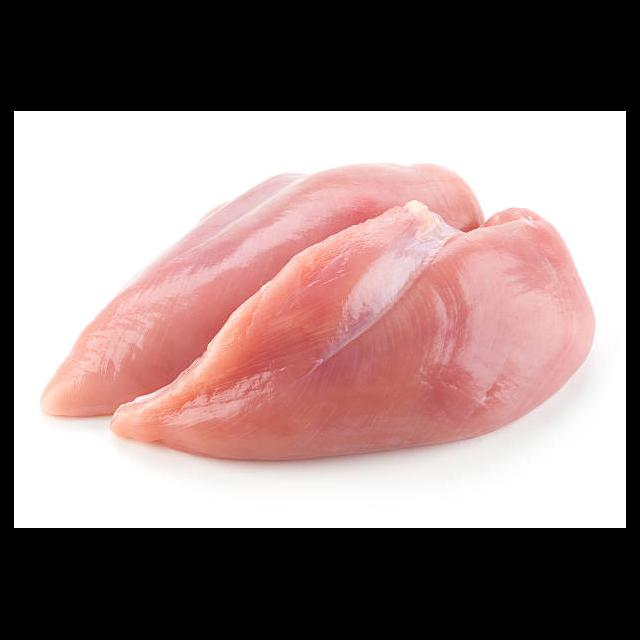chicken: (40, 159, 599, 461)
